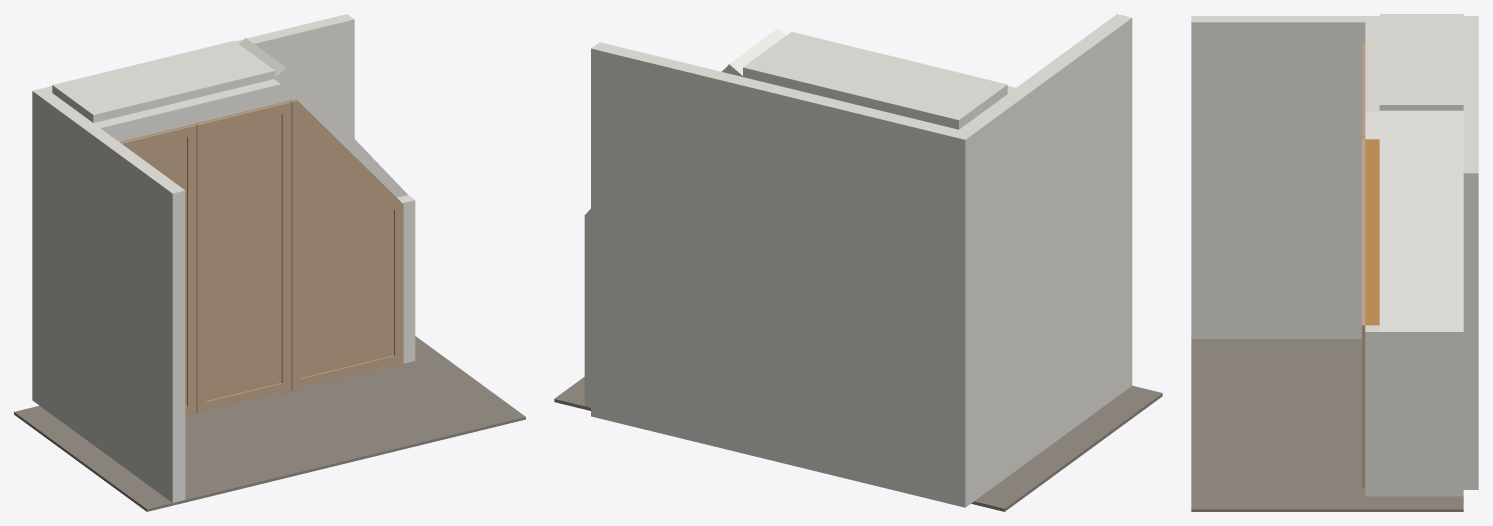
3 renders of one model, left to right at view 1: azimuth 30°, elevation 25°; view 2: azimuth 150°, elevation 25°; view 3: azimuth 270°, elevation 25°, orthographic. The views are drawn at different scales.
Visible parts, largest first — view 1: Room: Left wall, Room: Floor, Door 2: Panel, Door 3: Panel, Room: Flat ceiling, Door 2: Frame, Door 3: Frame, Room: Back wall, Room: Wall above the beam, Door 1: Frame, Room: Sloping ceiling, Room: Right wall (+1 smaller); view 2: Room: Back wall, Room: Left wall, Room: Flat ceiling, Room: Floor, Room: Right wall, Room: Sloping ceiling; view 3: Room: Left wall, Room: Floor, Room: Sloping ceiling, Room: Right wall, Room: Flat ceiling, Room: Back wall, Room: Raking beam, Room: Wall above the beam, Door 3: Frame.
Part boxes in pixels (x1,y1,x2,y2): Room: Left wall: (32, 88, 185, 502); Room: Floor: (14, 336, 525, 511); Door 2: Panel: (206, 114, 281, 400); Door 3: Panel: (301, 119, 393, 377); Room: Flat ceiling: (52, 41, 275, 122); Door 2: Frame: (196, 101, 291, 413); Door 3: Frame: (290, 99, 403, 390); Room: Back wall: (45, 14, 354, 138); Room: Wall above the beam: (93, 79, 295, 142); Door 1: Frame: (120, 124, 196, 416); Room: Sloping ceiling: (239, 38, 407, 197); Room: Right wall: (397, 195, 415, 363); Room: Back wall: (591, 42, 958, 503); Room: Left wall: (950, 14, 1132, 507); Room: Flat ceiling: (743, 32, 1007, 129); Room: Floor: (554, 377, 1162, 511); Room: Right wall: (584, 215, 590, 407); Room: Sloping ceiling: (585, 28, 785, 216); Room: Left wall: (1191, 16, 1478, 338); Room: Floor: (1191, 339, 1463, 511); Room: Sloping ceiling: (1379, 110, 1463, 331); Room: Right wall: (1365, 325, 1463, 496); Room: Flat ceiling: (1379, 14, 1463, 110); Room: Back wall: (1463, 22, 1478, 489); Room: Raking beam: (1365, 139, 1379, 325); Room: Wall above the beam: (1365, 22, 1379, 139); Door 3: Frame: (1362, 137, 1365, 487).
Bounding box in the file's own units: 2.96 × 2.39 × 1.9.
